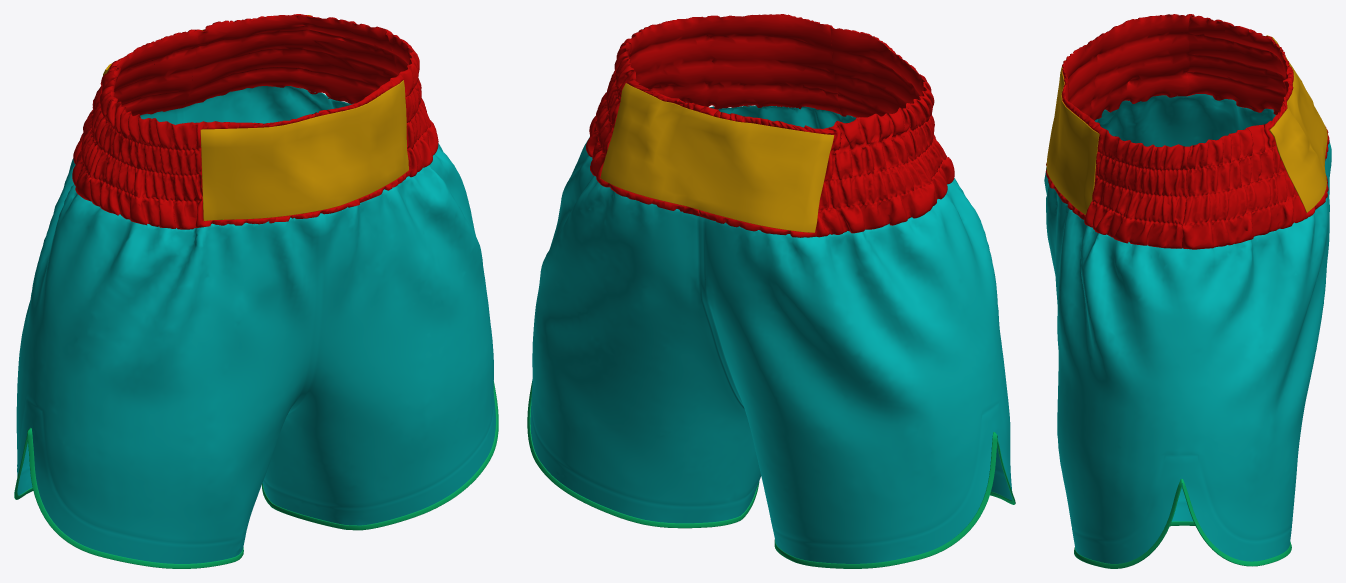
Rendered from test-parts.glb.
3 renders of one model, left to right at view 1: azimuth 30°, elevation 25°; view 2: azimuth 150°, elevation 25°; view 3: azimuth 270°, elevation 25°, orthographic. The views are drawn at different scales.
Visible parts, largest first — view 1: Shorts_curved_shorts_curved.001, Shorts_shorts_waist_v1.001, Shorts_waist_v1_logo.001, Shorts_curved_trim_curved.001; view 2: Shorts_curved_shorts_curved.001, Shorts_shorts_waist_v1.001, Shorts_waist_v1_logo.001, Shorts_curved_trim_curved.001; view 3: Shorts_curved_shorts_curved.001, Shorts_shorts_waist_v1.001, Shorts_waist_v1_logo.001, Shorts_curved_trim_curved.001.
Part boxes in pixels (x1=…): Shorts_curved_shorts_curved.001: x1=16, y1=86, x2=495, y2=563; Shorts_shorts_waist_v1.001: x1=72, y1=14, x2=438, y2=229; Shorts_waist_v1_logo.001: x1=103, y1=15, x2=408, y2=221; Shorts_curved_trim_curved.001: x1=14, y1=381, x2=498, y2=568; Shorts_curved_shorts_curved.001: x1=530, y1=102, x2=1012, y2=563; Shorts_shorts_waist_v1.001: x1=586, y1=14, x2=954, y2=237; Shorts_waist_v1_logo.001: x1=600, y1=49, x2=909, y2=232; Shorts_curved_trim_curved.001: x1=527, y1=381, x2=1015, y2=568; Shorts_curved_shorts_curved.001: x1=1044, y1=94, x2=1331, y2=563; Shorts_shorts_waist_v1.001: x1=1045, y1=14, x2=1329, y2=249; Shorts_waist_v1_logo.001: x1=1046, y1=35, x2=1327, y2=214; Shorts_curved_trim_curved.001: x1=1074, y1=479, x2=1291, y2=568.
Size of the model in its own units: 5.2 by 4.89 by 2.91.
